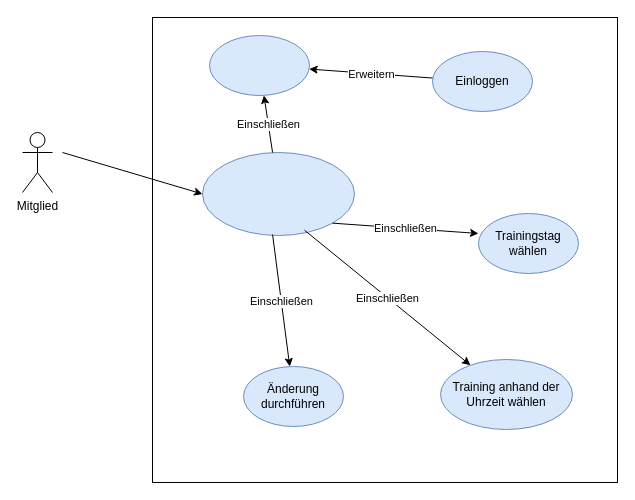
The diagram is 635 pixels wide and 500 high, and some of its shapes have lost their labels. The centre of each missing label's shape, as x and y in pixels:
"Trainignsplan aufrufen" goes at [259,65].
"Trainingseintrag ändern" goes at [278,194].
